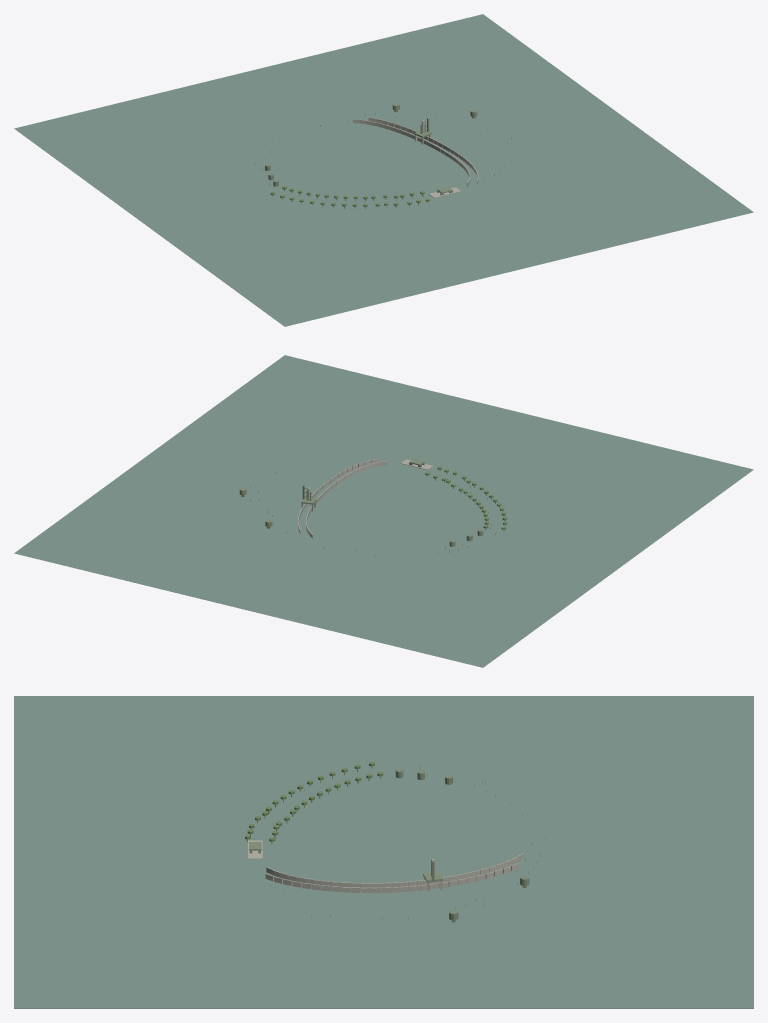
The model's file is blockout.glb.
The picture shows the model from 3 angles, top to bottom: view 1: azimuth 30°, elevation 25°; view 2: azimuth 150°, elevation 25°; view 3: azimuth 270°, elevation 25°; orthographic projection. The views are drawn at different scales.
Parts seen in each view (by area): view 1: ascension_blockout_water, ascension_blockout_concrete, ascension_blockout_jungle; view 2: ascension_blockout_water, ascension_blockout_concrete, ascension_blockout_jungle; view 3: ascension_blockout_water, ascension_blockout_concrete, ascension_blockout_jungle, ascension_blockout_metal.
Part boxes in pixels (<box>): ascension_blockout_water: <box>14,14,753,326</box>; ascension_blockout_concrete: <box>353,117,478,198</box>; ascension_blockout_jungle: <box>270,186,429,208</box>; ascension_blockout_water: <box>14,355,753,667</box>; ascension_blockout_concrete: <box>298,459,433,538</box>; ascension_blockout_jungle: <box>425,466,507,531</box>; ascension_blockout_water: <box>14,696,753,1008</box>; ascension_blockout_concrete: <box>248,840,523,893</box>; ascension_blockout_jungle: <box>245,762,383,843</box>; ascension_blockout_metal: <box>254,766,545,922</box>.
Bounding box in the file's own units: 1900 × 91.65 × 1900.
